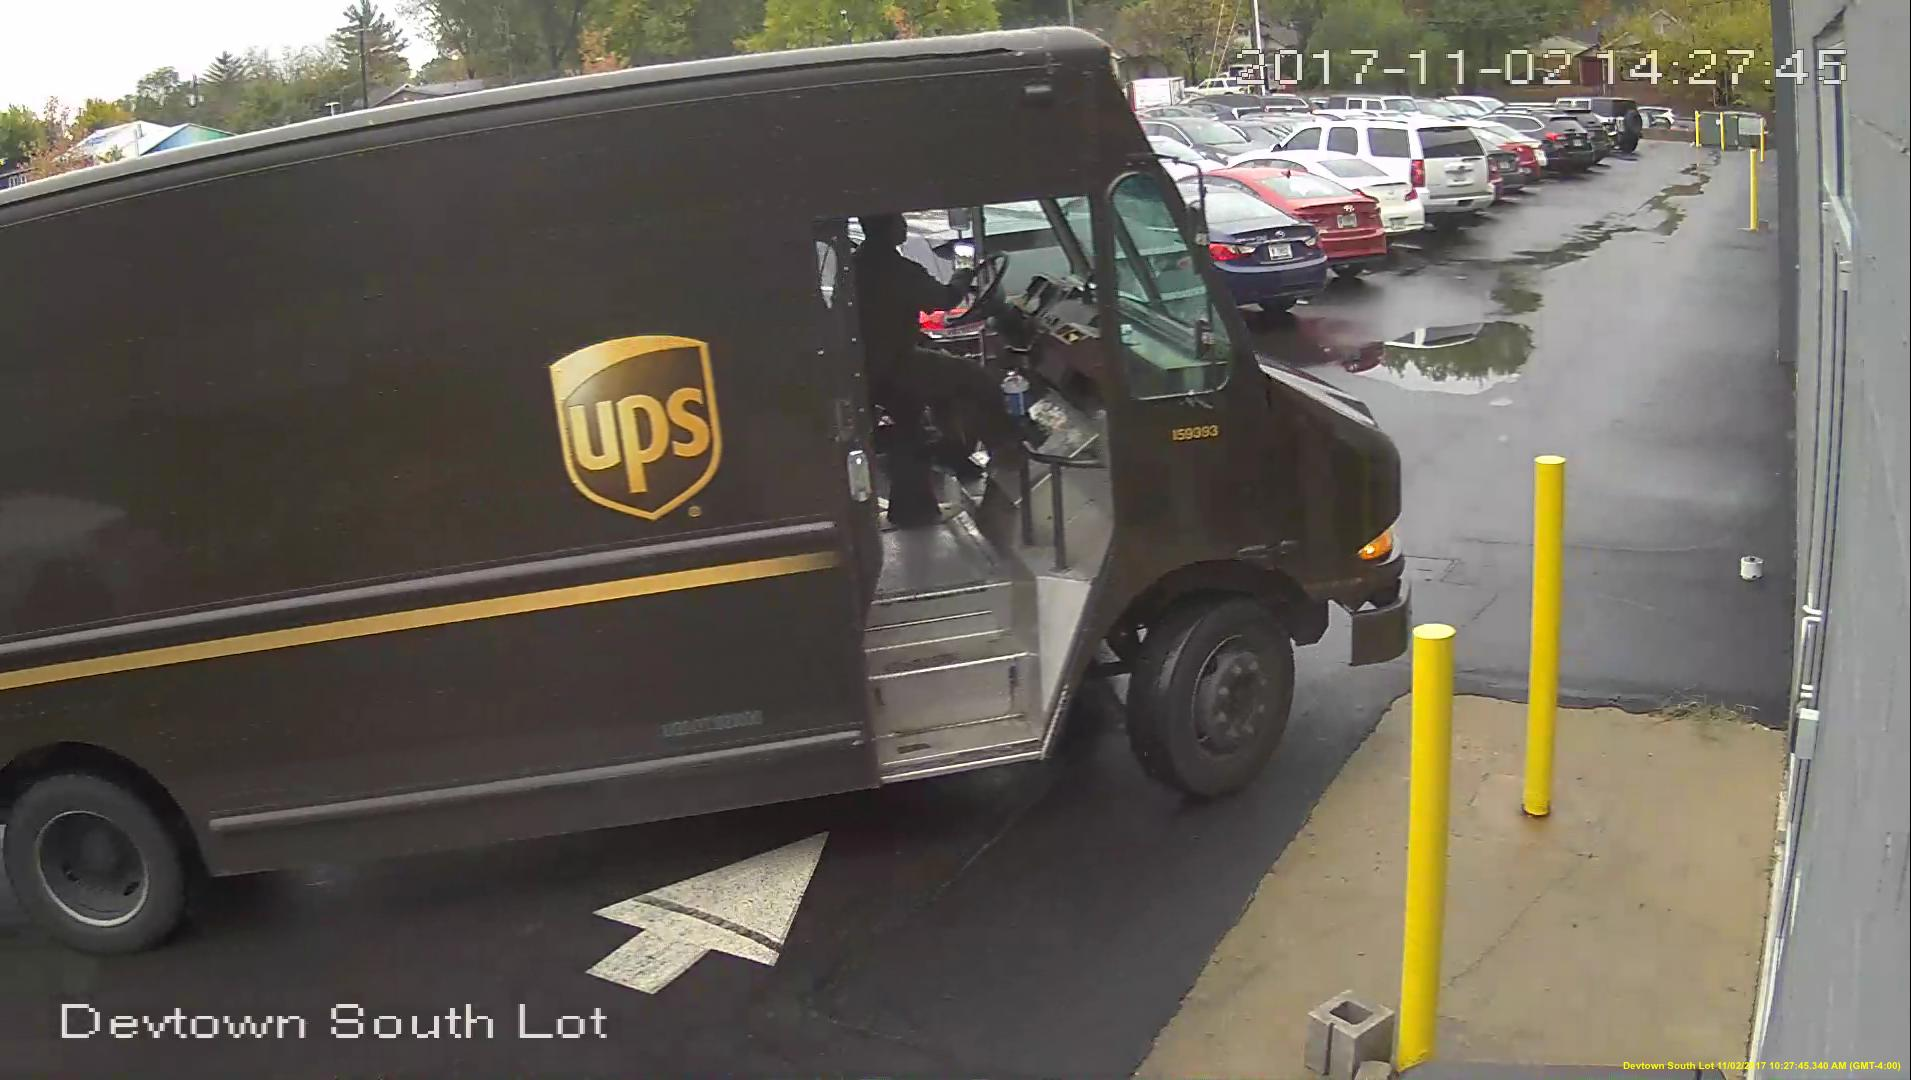ups_truck: (1, 28, 1396, 957)
